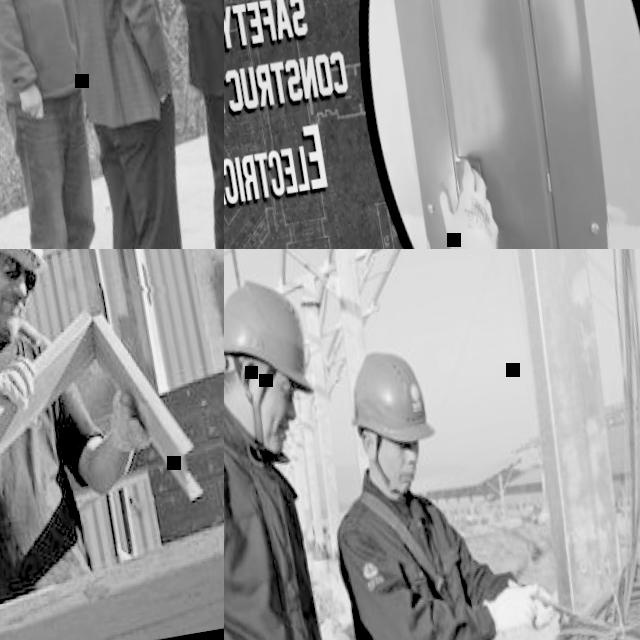Hardhat: (224, 275, 321, 410), (344, 343, 440, 452)
NO-Mask: (250, 417, 290, 453), (0, 293, 28, 335), (384, 463, 416, 496)
NO-Safety Vest: (0, 329, 92, 613), (224, 429, 343, 640), (340, 496, 491, 640), (40, 0, 158, 132), (0, 0, 77, 106)
Person: (306, 325, 588, 640), (0, 249, 176, 626), (224, 278, 377, 640), (16, 0, 197, 249), (0, 0, 114, 249), (130, 0, 224, 249), (432, 149, 527, 249)
